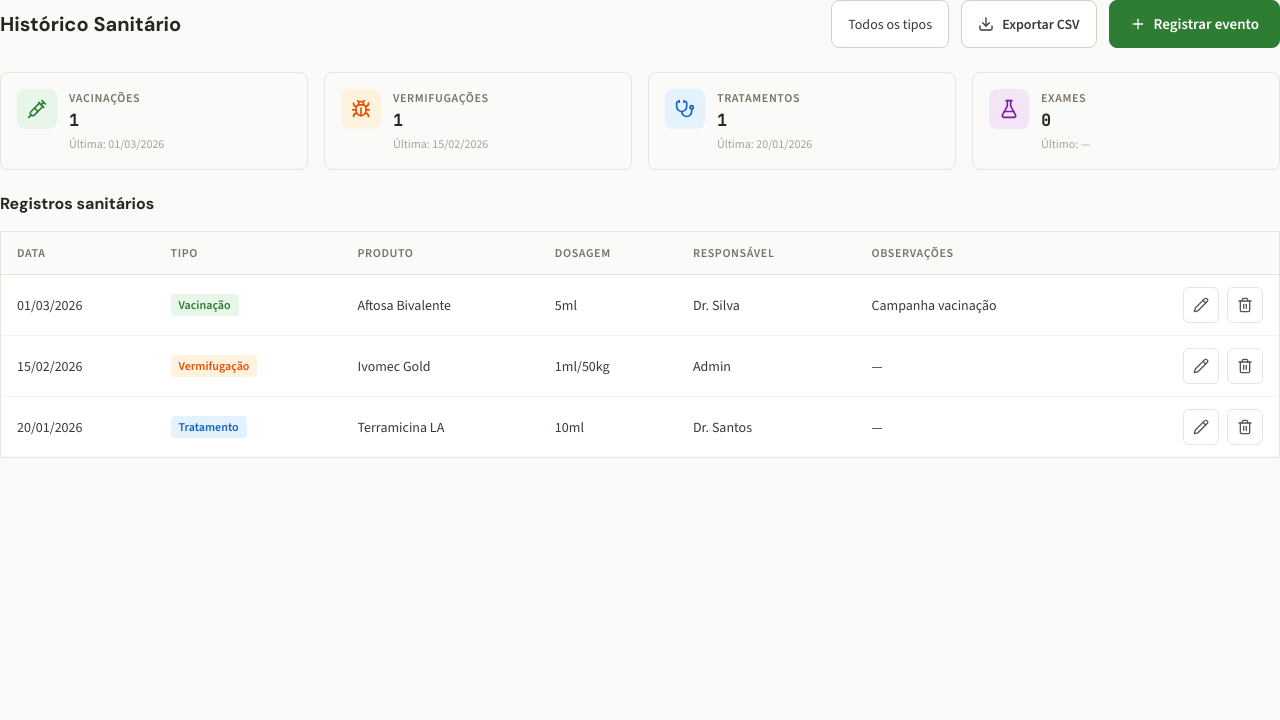
Test: SanitaryTab › opens edit modal when clicking edit on a record
Click the button named "Editar registro" at (1201, 305), box [1183,287,1219,323]
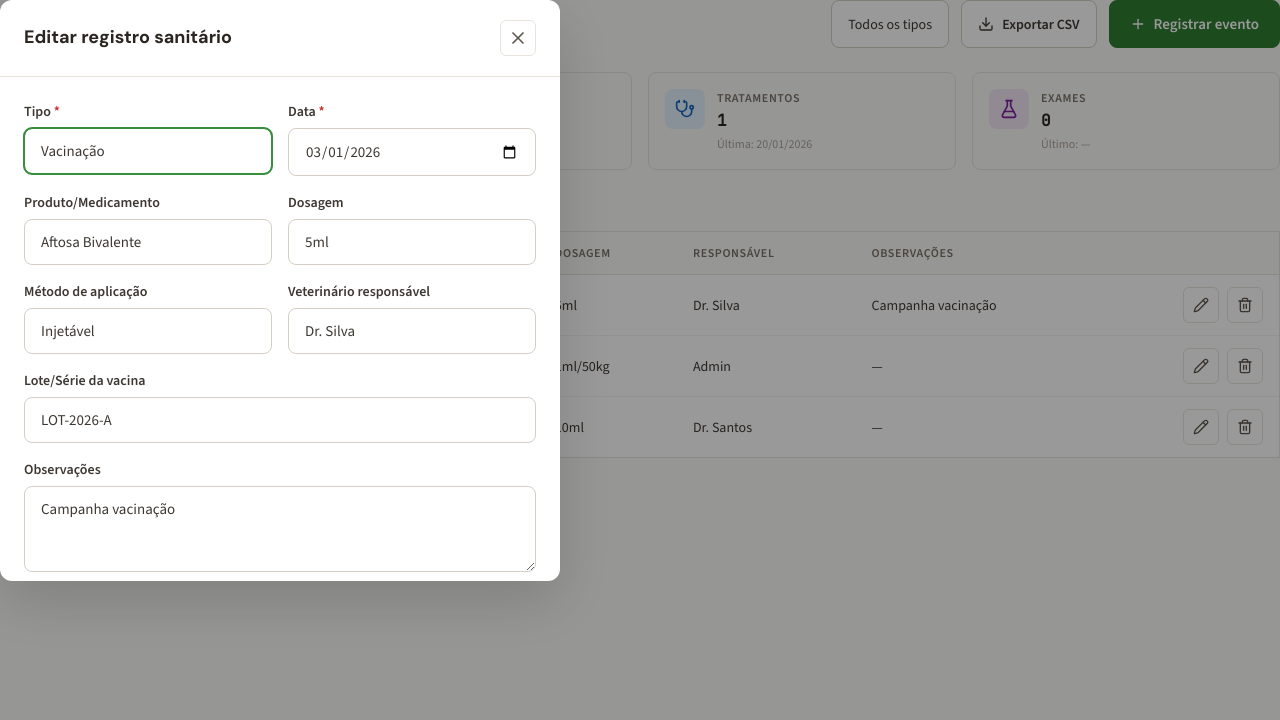
Expected: the heading "Editar registro sanitário" is shown, [24,26,232,50]
